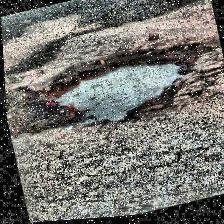pothole: (37, 38, 198, 138)
